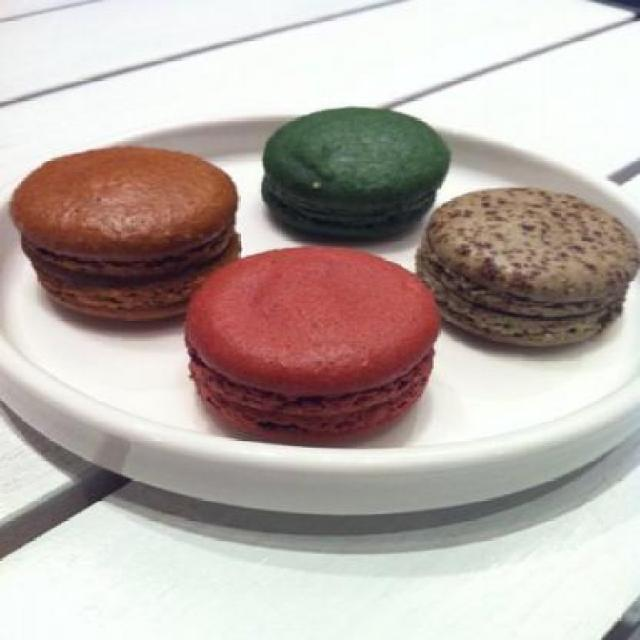Macaron: (7, 104, 638, 447)
